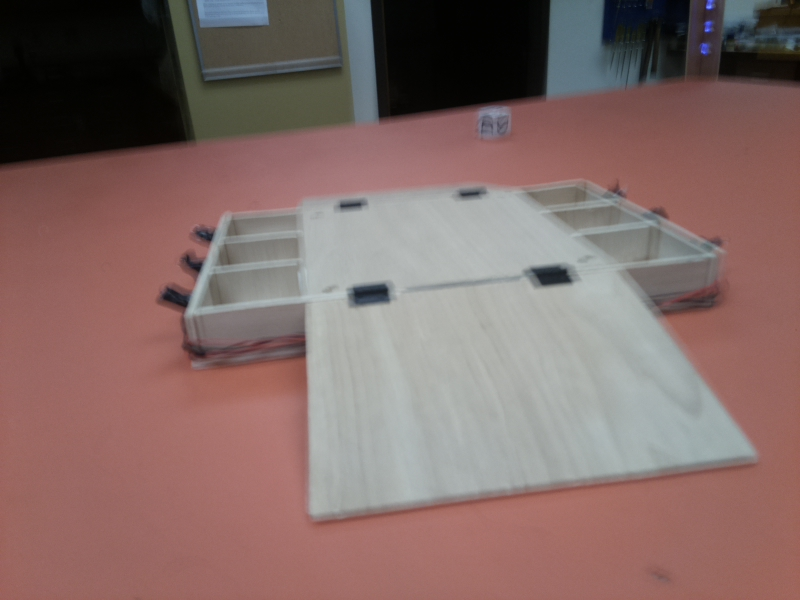blockD: (475, 105, 513, 140)
side: (582, 163, 742, 257), (161, 210, 225, 369)
slope: (304, 264, 763, 525), (301, 187, 518, 210)
